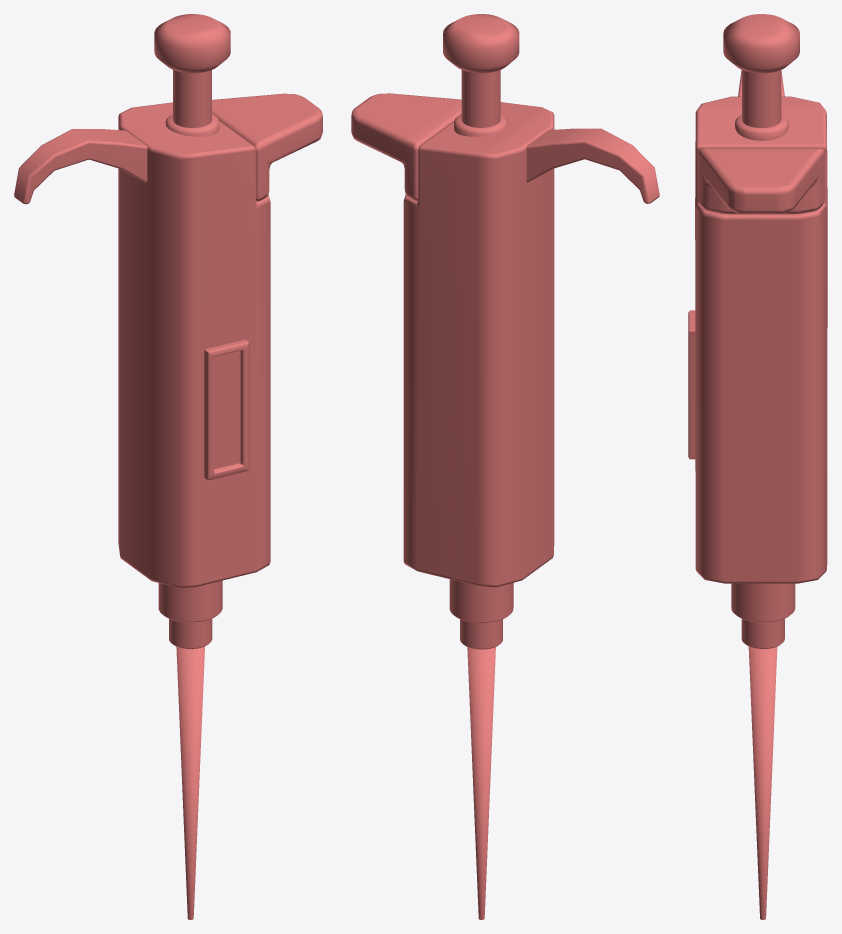
File: _M_P_Micropipette.FBX
3 views of the same model, side by side, from view 1: azimuth 30°, elevation 25°; view 2: azimuth 150°, elevation 25°; view 3: azimuth 270°, elevation 25° (orthographic).
Parts seen in each view (by area): view 1: MP_Body_Geo, MP_Button_Geo, MP_Point_Geo; view 2: MP_Body_Geo, MP_Button_Geo, MP_Point_Geo; view 3: MP_Body_Geo, MP_Button_Geo, MP_Point_Geo.
Part boxes in pixels (left/top/right/bottom): MP_Body_Geo: left=14, top=93, right=322, bottom=649; MP_Button_Geo: left=154, top=14, right=230, bottom=127; MP_Point_Geo: left=176, top=646, right=204, bottom=919; MP_Body_Geo: left=351, top=93, right=659, bottom=649; MP_Button_Geo: left=443, top=14, right=519, bottom=127; MP_Point_Geo: left=467, top=647, right=495, bottom=919; MP_Body_Geo: left=688, top=70, right=827, bottom=649; MP_Button_Geo: left=723, top=14, right=799, bottom=127; MP_Point_Geo: left=748, top=646, right=777, bottom=919.
Bounding box in the file's own units: 18.76 × 54.46 × 7.69.
